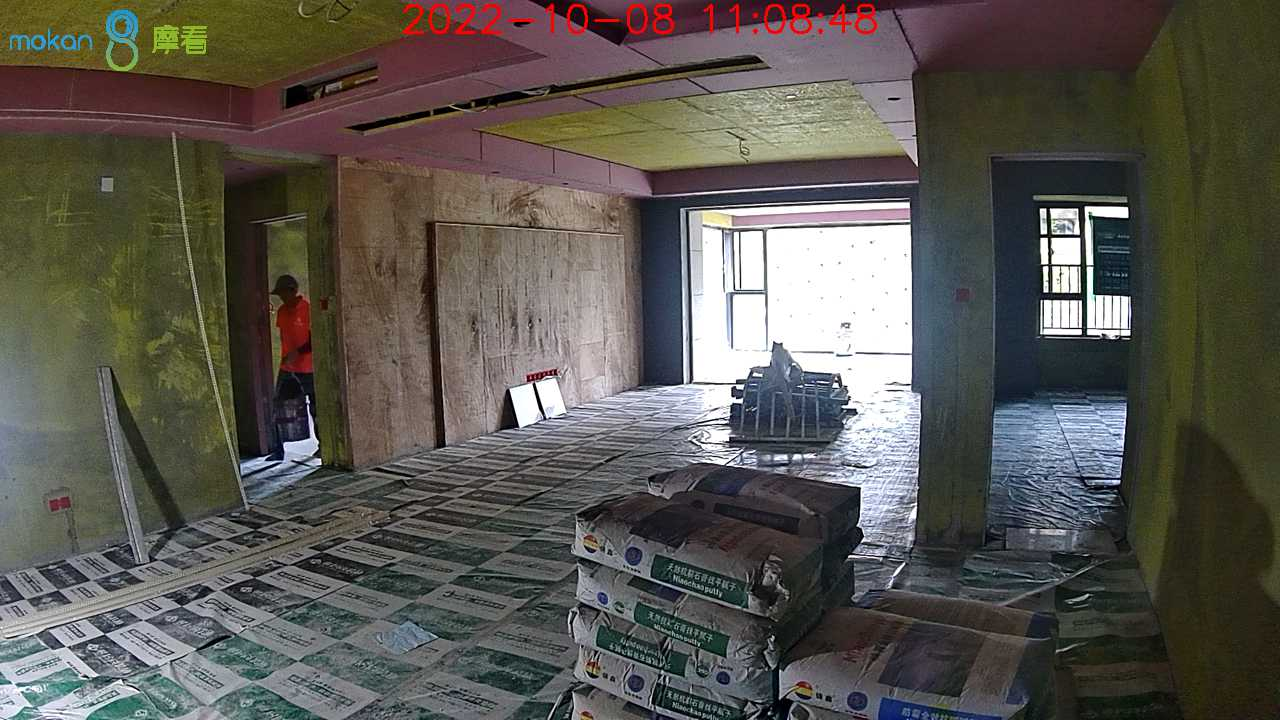people: (262, 274, 314, 463)
window: (725, 226, 909, 362), (1035, 198, 1134, 339)
